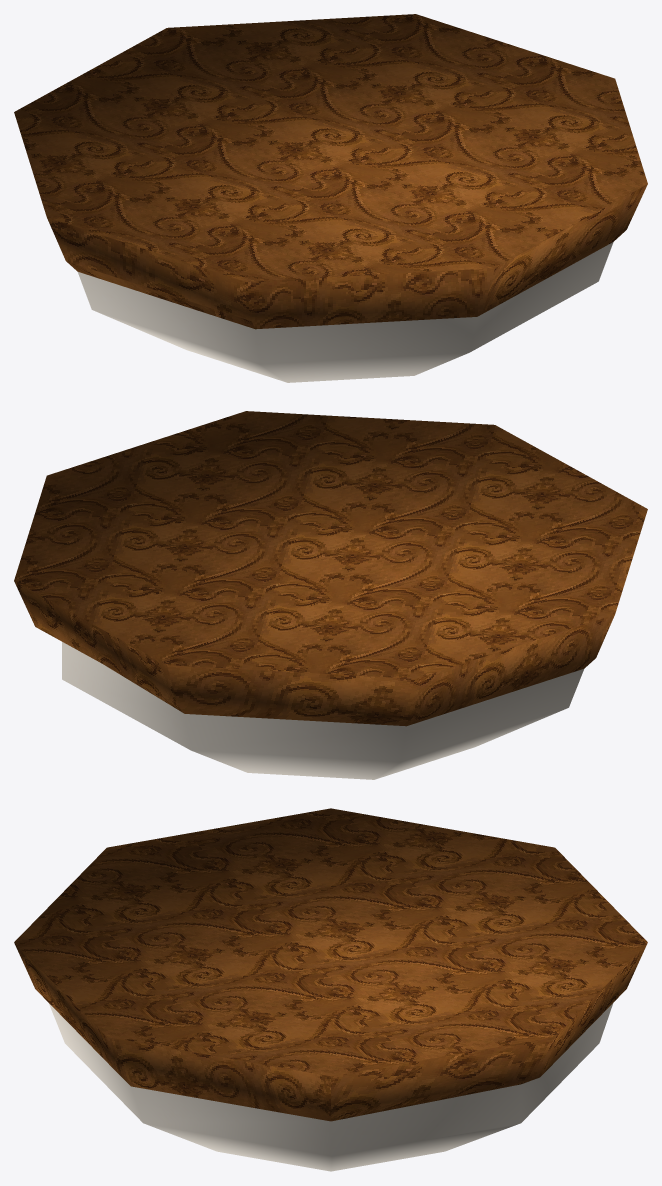
File: ceiling light.glb
The picture shows the model from 3 angles, top to bottom: view 1: azimuth 30°, elevation 25°; view 2: azimuth 150°, elevation 25°; view 3: azimuth 270°, elevation 25°; orthographic projection. The views are drawn at different scales.
Parts seen in each view (by area): view 1: Circle.001; view 2: Circle.001; view 3: Circle.001.
Boxes of the visible parts, x1,y1,x2,y2 form: Circle.001: [14, 14, 647, 382]; Circle.001: [14, 411, 647, 779]; Circle.001: [14, 808, 647, 1171].
Size of the model in its own units: 0.8749 by 0.3076 by 0.8749.
2 materials, 2 textured.
